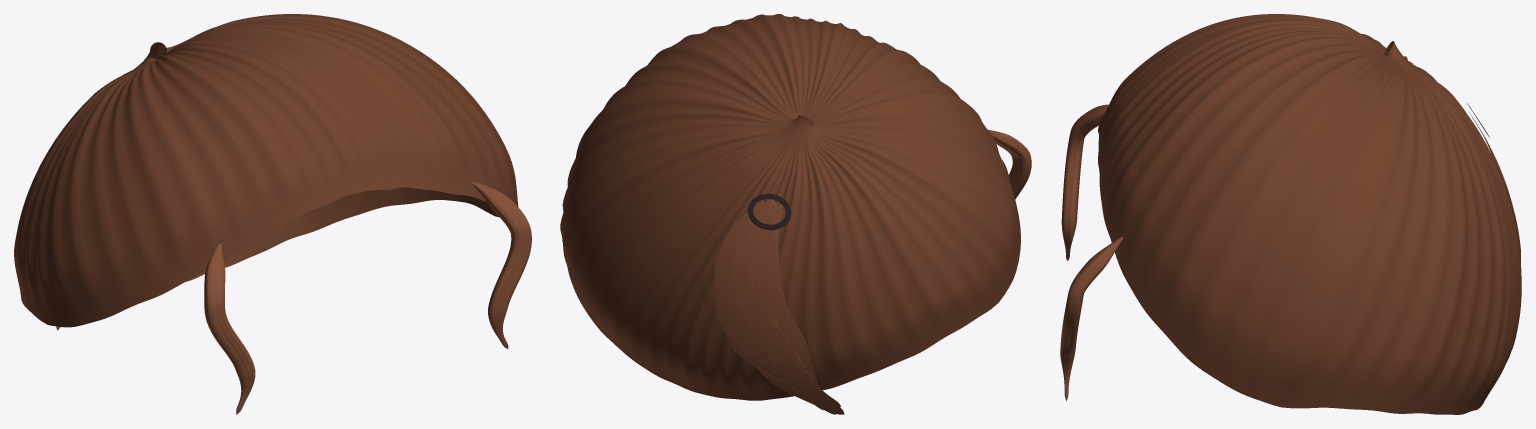
Rendered from Feminine-ponytail-pashmina251-hair.glb.
3 renders of one model, left to right at view 1: azimuth 30°, elevation 25°; view 2: azimuth 150°, elevation 25°; view 3: azimuth 270°, elevation 25°, orthographic. The views are drawn at different scales.
Visible parts, largest first — view 1: 226 hair / Hair / crisp pulled roots220, 226 hair / Hair / sculpted front locks222; view 2: 226 hair / Hair / crisp pulled roots220, 226 hair / Hair / chestnut212 0, 226 hair / Hair / chestnut212 1, 226 hair / Hair / chestnut212 2, 226 hair / Hair / sculpted front locks222, 226 hair / Hair / fitted tie214; view 3: 226 hair / Hair / crisp pulled roots220, 226 hair / Hair / sculpted front locks222.
Boxes of the visible parts, x1,y1,x2,y2 form: 226 hair / Hair / crisp pulled roots220: (14, 14, 518, 327); 226 hair / Hair / sculpted front locks222: (204, 181, 531, 414); 226 hair / Hair / crisp pulled roots220: (560, 14, 1020, 400); 226 hair / Hair / chestnut212 0: (713, 201, 835, 414); 226 hair / Hair / chestnut212 1: (724, 202, 840, 410); 226 hair / Hair / chestnut212 2: (730, 199, 844, 414); 226 hair / Hair / sculpted front locks222: (988, 129, 1031, 199); 226 hair / Hair / fitted tie214: (747, 193, 791, 230); 226 hair / Hair / crisp pulled roots220: (1098, 14, 1521, 414); 226 hair / Hair / sculpted front locks222: (1060, 104, 1122, 400).
Size of the model in its own units: 0.9675 by 0.6669 by 0.8068.
